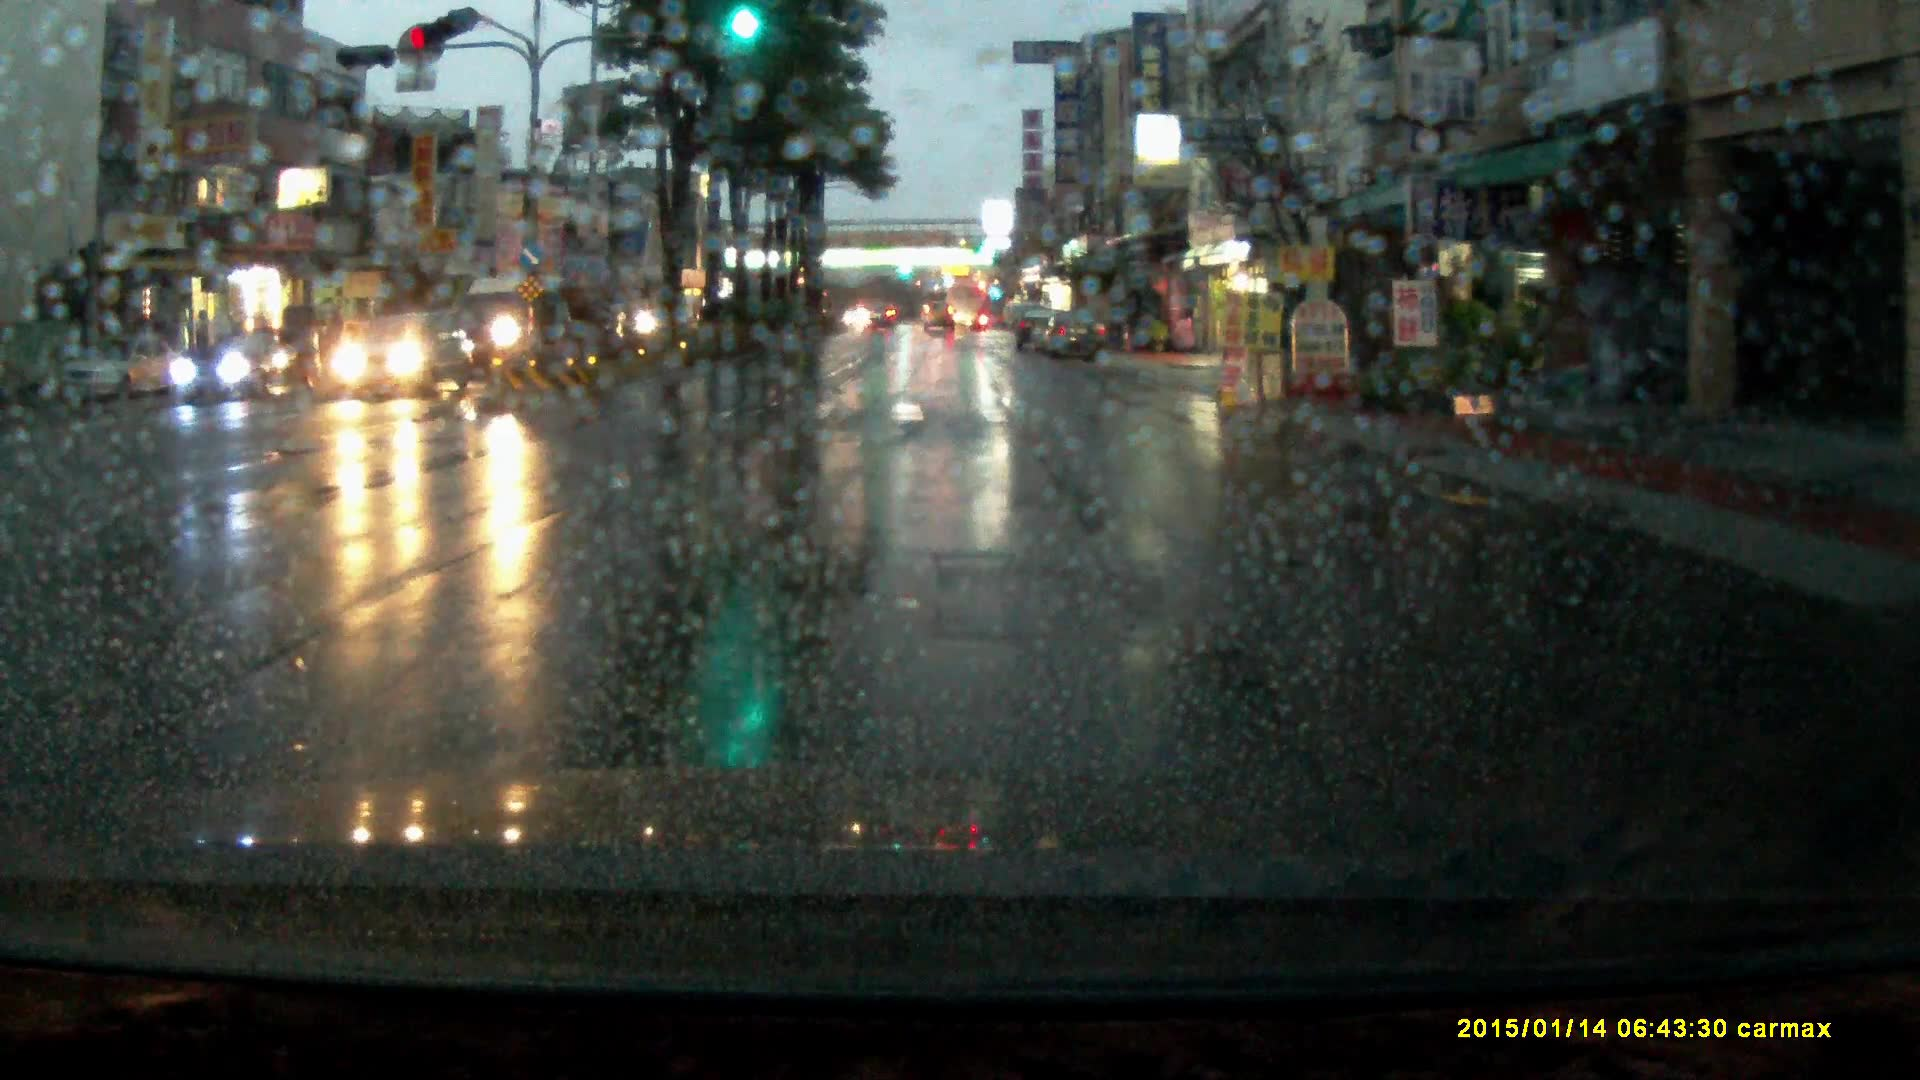vehicle: (448, 270, 575, 376), (167, 324, 319, 402), (336, 316, 467, 404), (55, 332, 194, 405), (1042, 307, 1113, 357), (1015, 305, 1062, 352), (951, 280, 989, 332), (924, 298, 957, 334), (862, 295, 899, 327)
